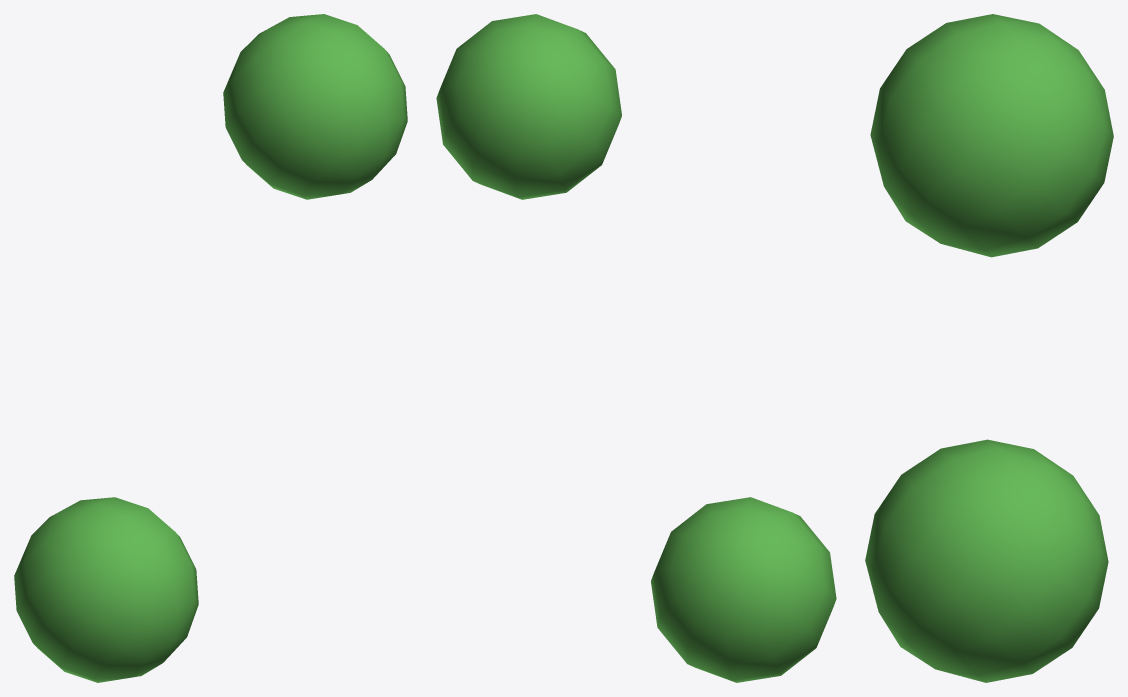
The model's file is linfatico-precaecal-nodes.glb.
3 renders of one model, left to right at view 1: azimuth 30°, elevation 25°; view 2: azimuth 150°, elevation 25°; view 3: azimuth 270°, elevation 25°, orthographic. The views are drawn at different scales.
Visible parts, largest first — view 1: Precaecal nodes; view 2: Precaecal nodes; view 3: Precaecal nodes.
Part boxes in pixels (x1,y1,x2,y2): Precaecal nodes: (14,14,407,682); Precaecal nodes: (436,14,836,682); Precaecal nodes: (865,14,1113,682).
Size of the model in its own units: 0.00592 by 0.00918 by 0.00266.
